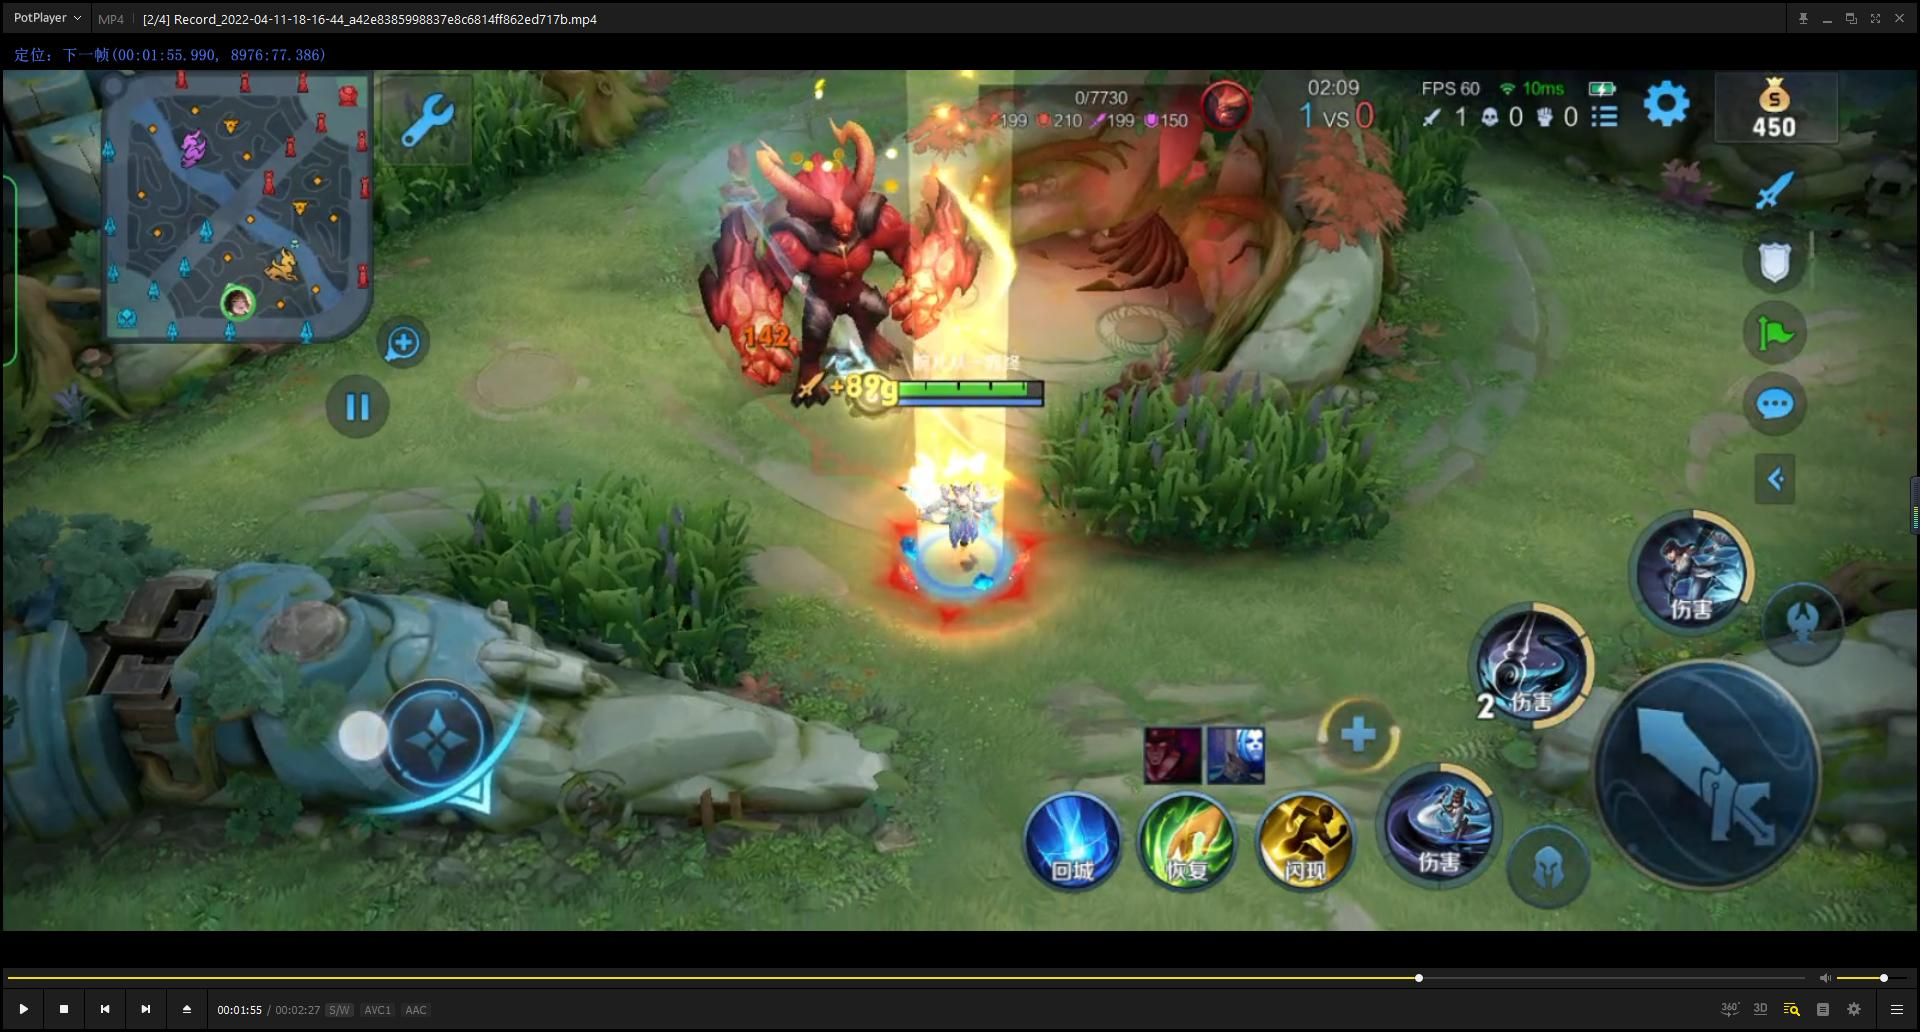Buff: (656, 111, 1010, 412)
Hero: (836, 454, 1060, 635)
